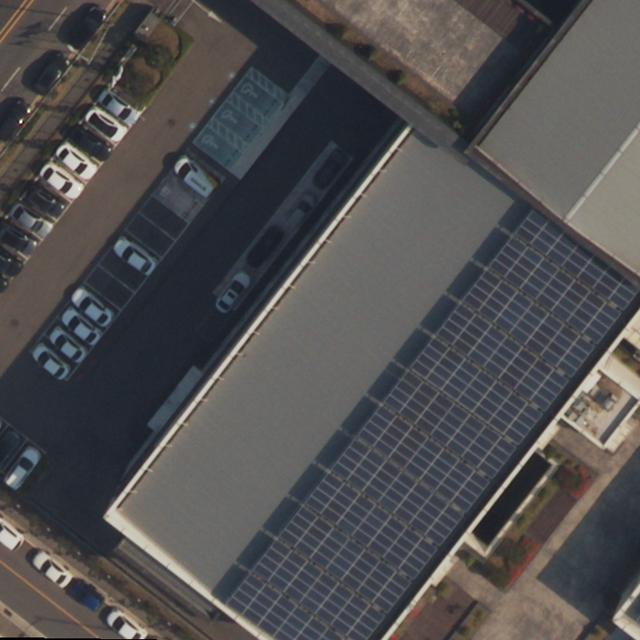panel: (274, 500, 421, 618), (428, 303, 577, 417), (302, 469, 447, 586), (456, 268, 602, 384), (325, 435, 472, 550), (377, 365, 525, 478), (356, 402, 497, 517), (403, 334, 548, 444), (241, 538, 391, 640), (484, 235, 621, 346), (511, 204, 636, 310), (214, 569, 360, 640)
